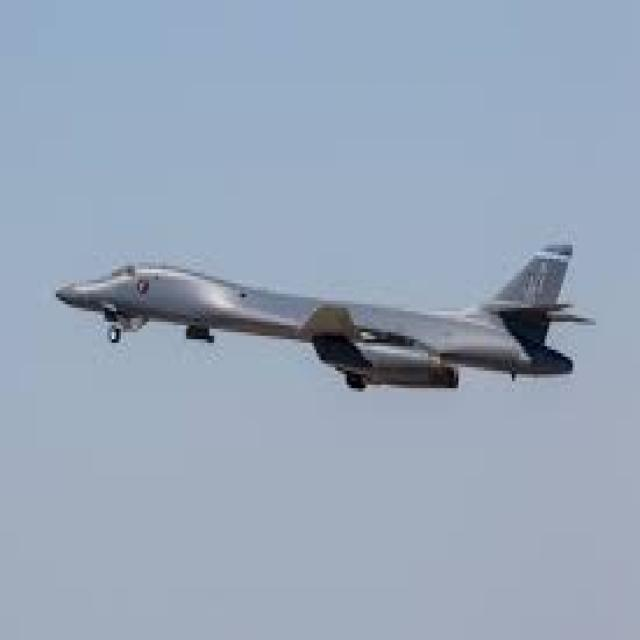B1: (48, 168, 606, 401)
